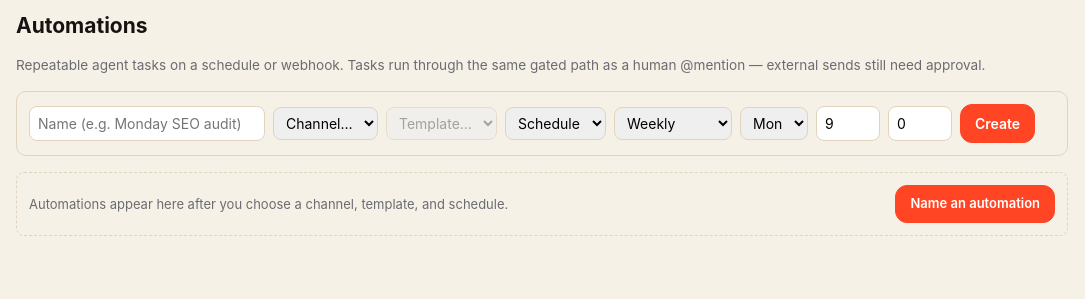
Test: AutomationsPanel (#167 — Create button) › shows a brand-voice error (not silence) when the template is missing
In the field with placeholder "Name (e.g. Monday SEO audit)": (147, 124) [29,106,265,142], type "Weekly audit"
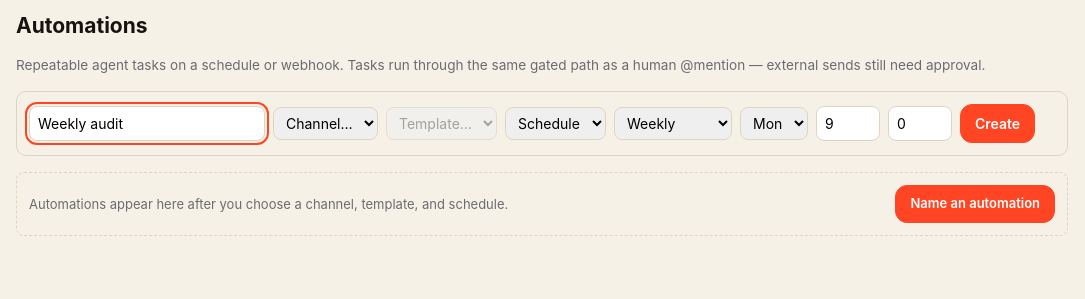
Select "#general" in the 1st dropdown: (326, 124) [273,108,378,140]
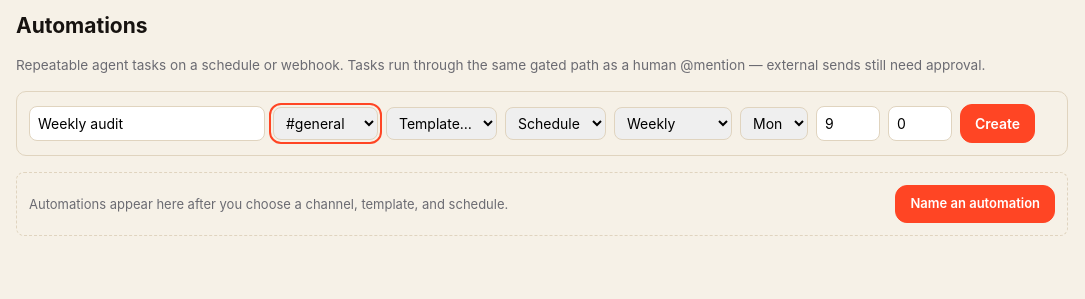
No template chosen → Create must surface a hint, never fail silently.
Click the button "Create": click(998, 124) [960,104,1035,144]
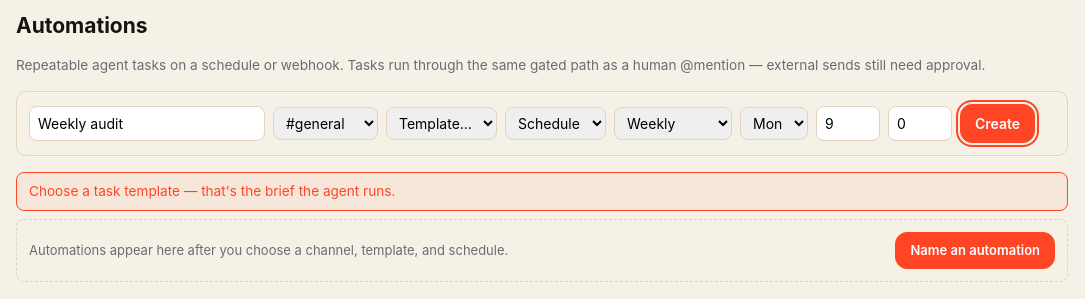
Check: the message shows "task template", box [29,184,395,200]
